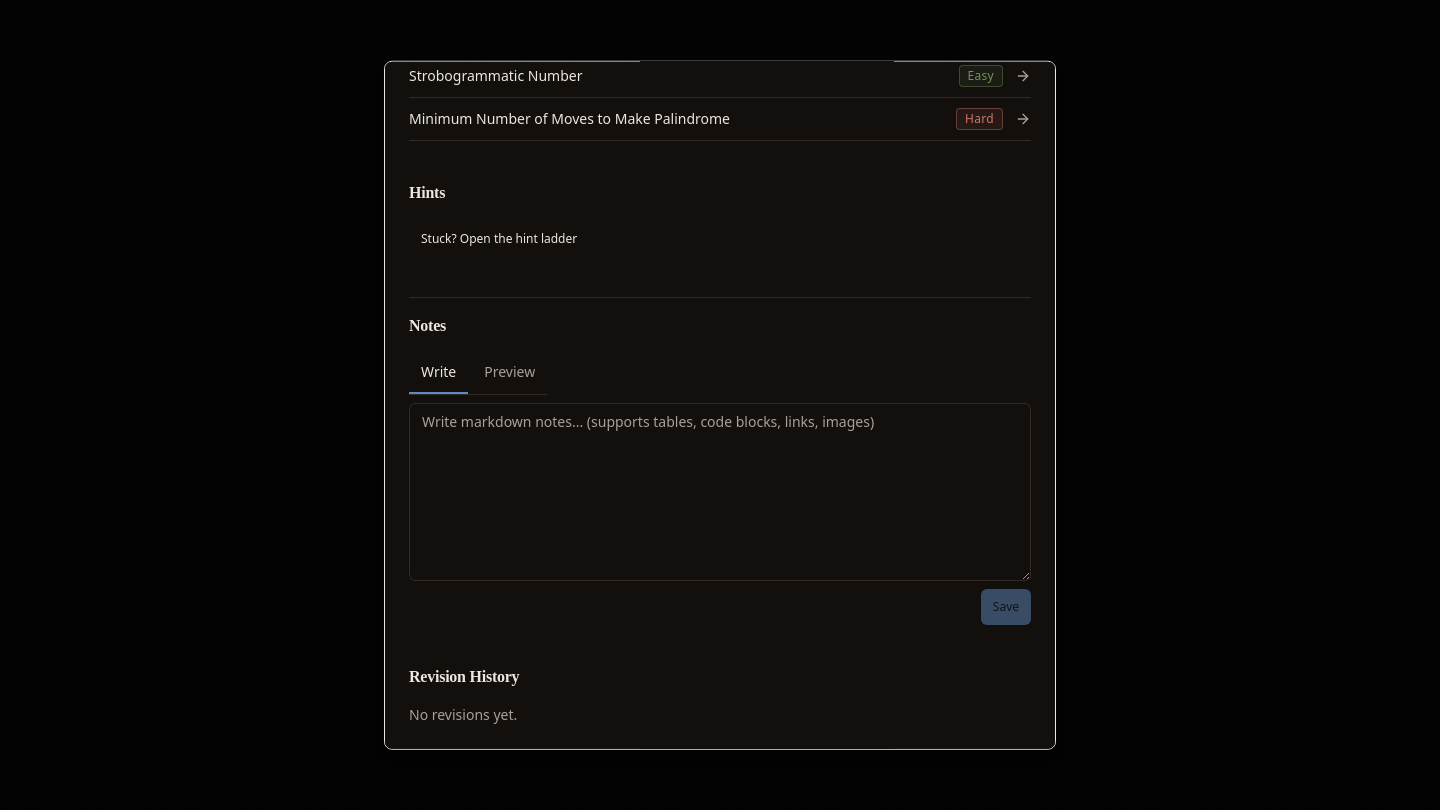
Test case: QuestionDetailModal › notes: typing then blurring the textarea autosaves via saveNotes
This screenshot has width=1440, height=810.
(page scrolled)
Expected: the dialog is shown, 384,61 -> 1056,749
Replace the text in the text box labelled "notes" with "Use two pointers from both ends.". click: (720, 492)
box: 409,403 -> 1031,581
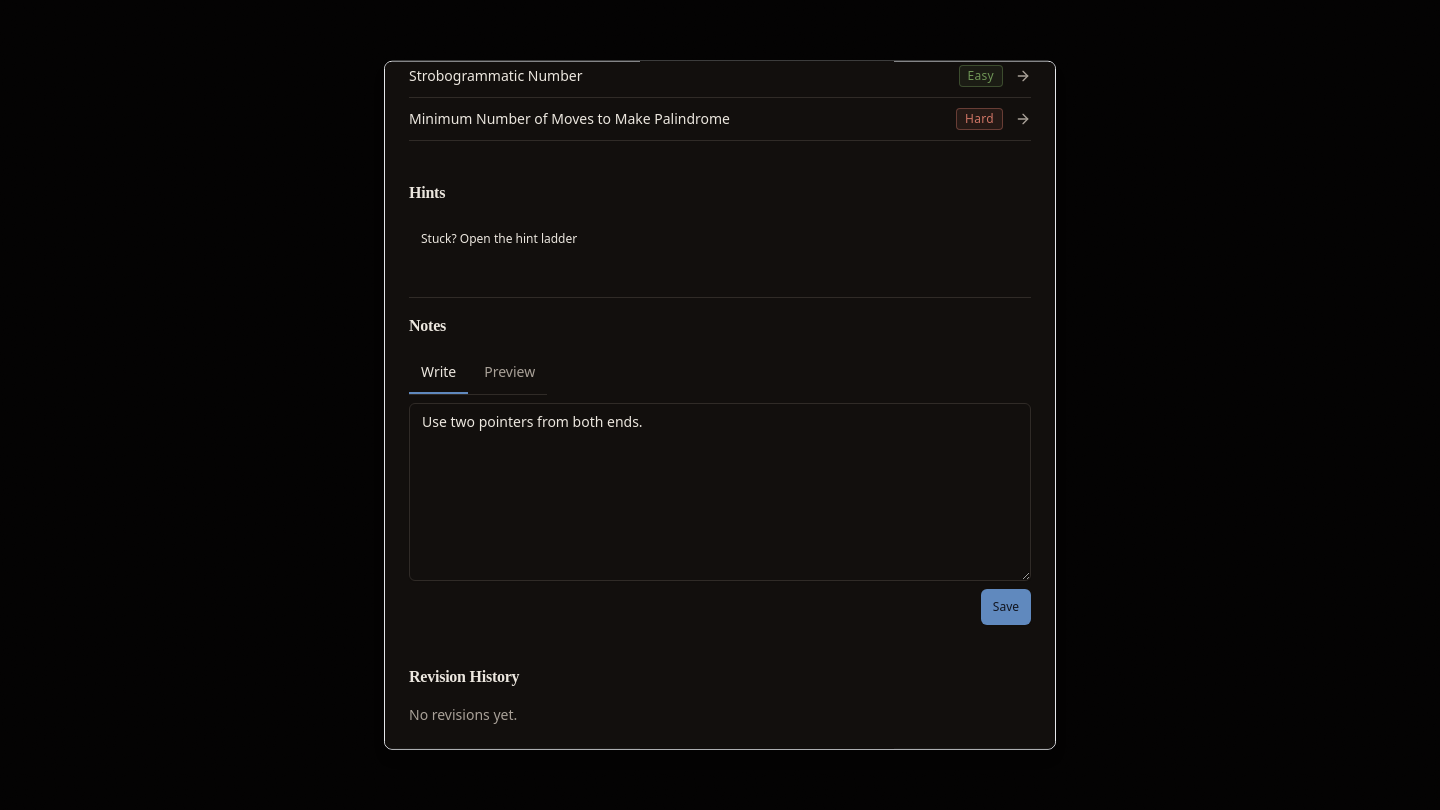
Leave the text box named "notes", box 409,403 -> 1031,581
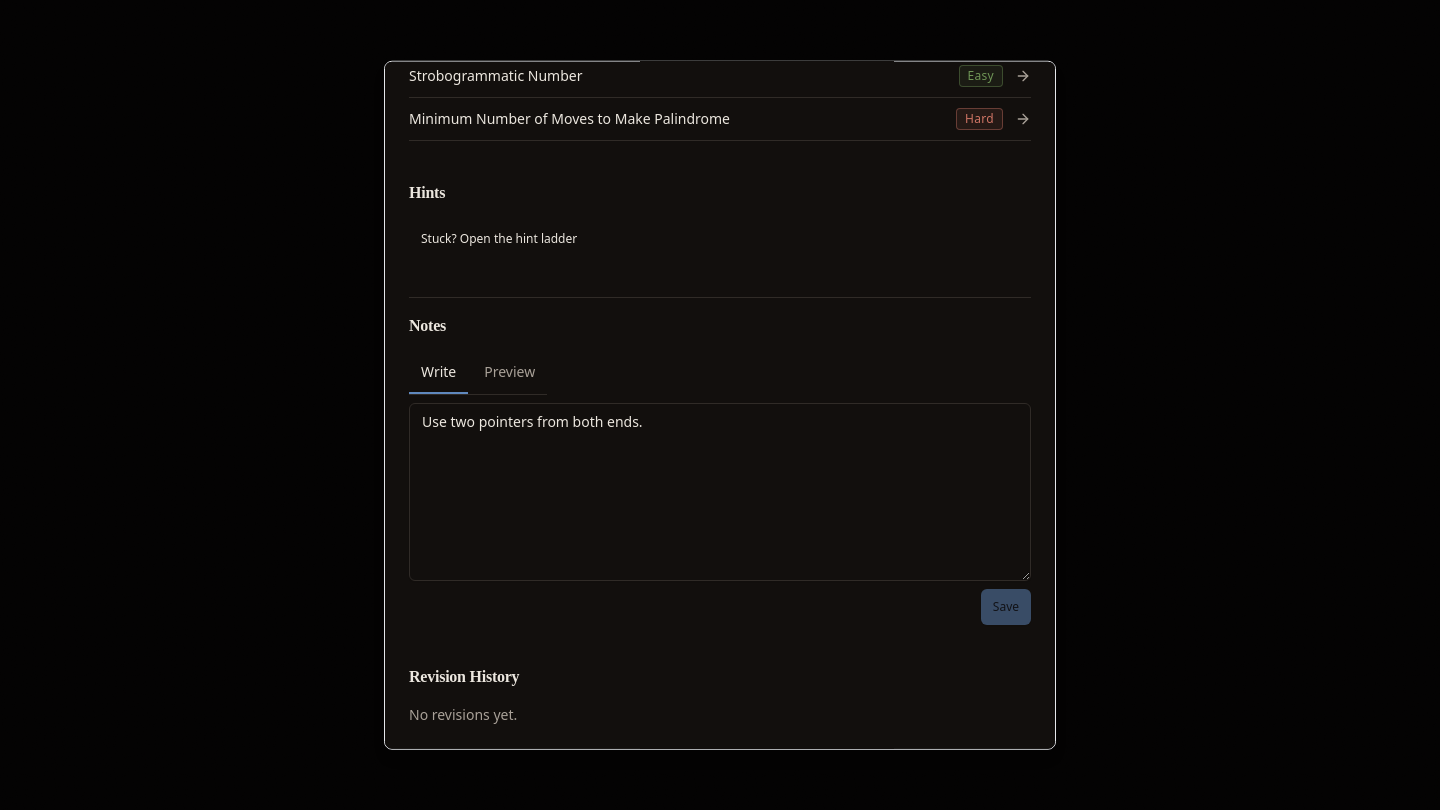
Now the button "Save" is disabled, box 981,589 -> 1031,625
